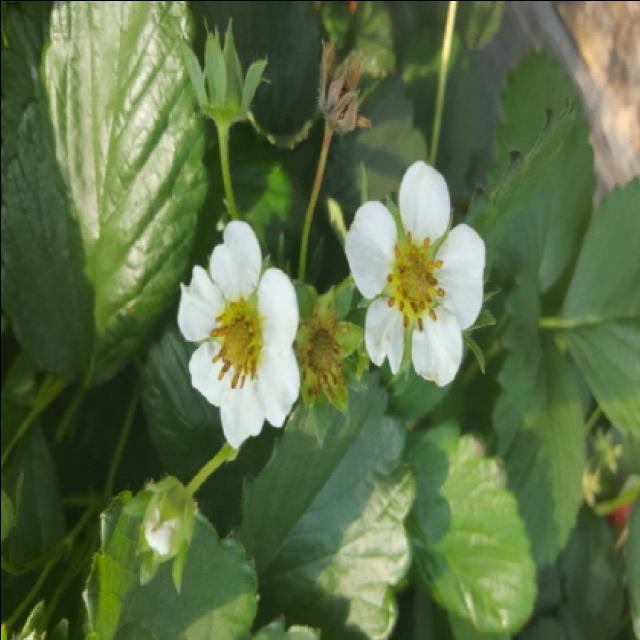Blossom Blight: (380, 227, 448, 337), (203, 293, 267, 394), (296, 313, 348, 401)
